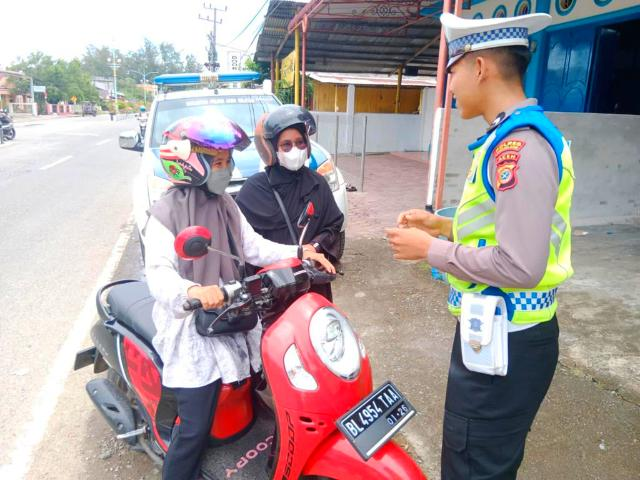helm: (160, 113, 254, 203), (255, 104, 321, 181)
motor: (72, 200, 434, 480)
